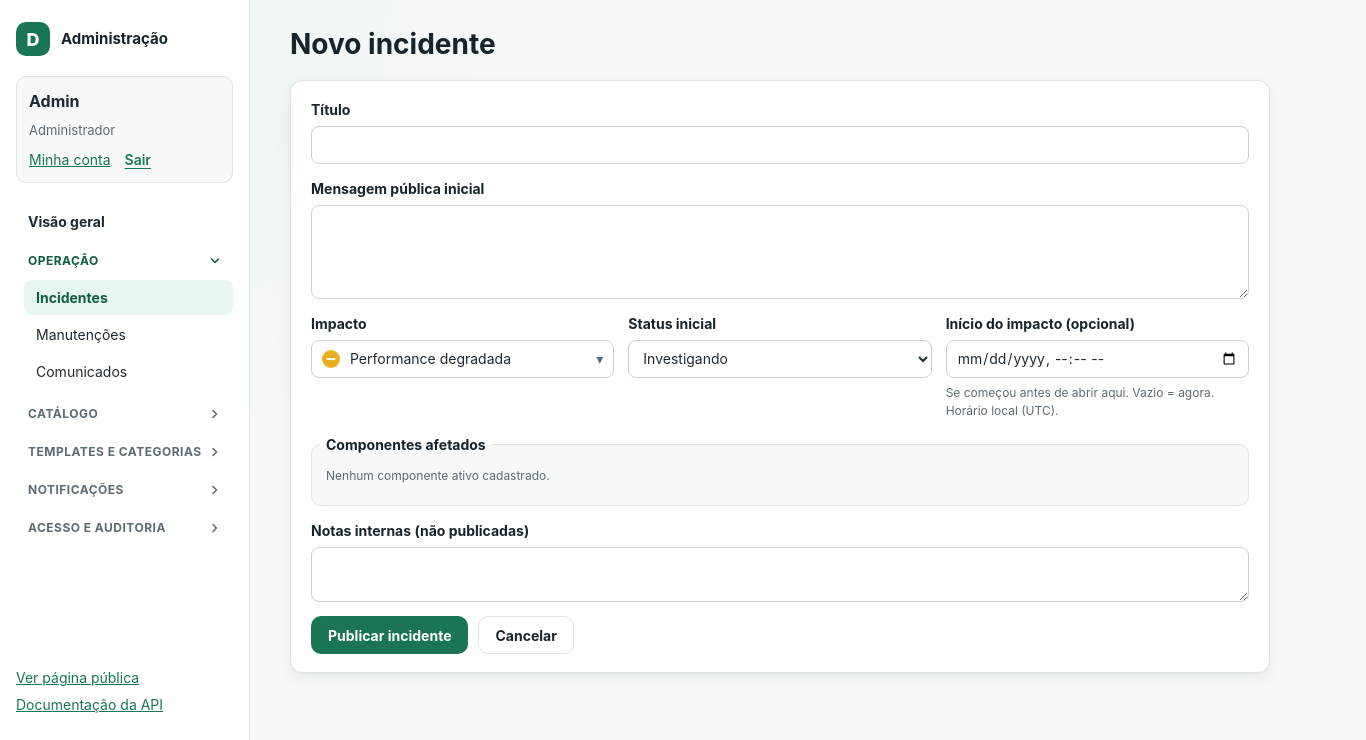
Test case: admin area › shows field errors returned by the API
Type "x" into the field labelled "Título" at [780, 145], box [311,126,1249,164]
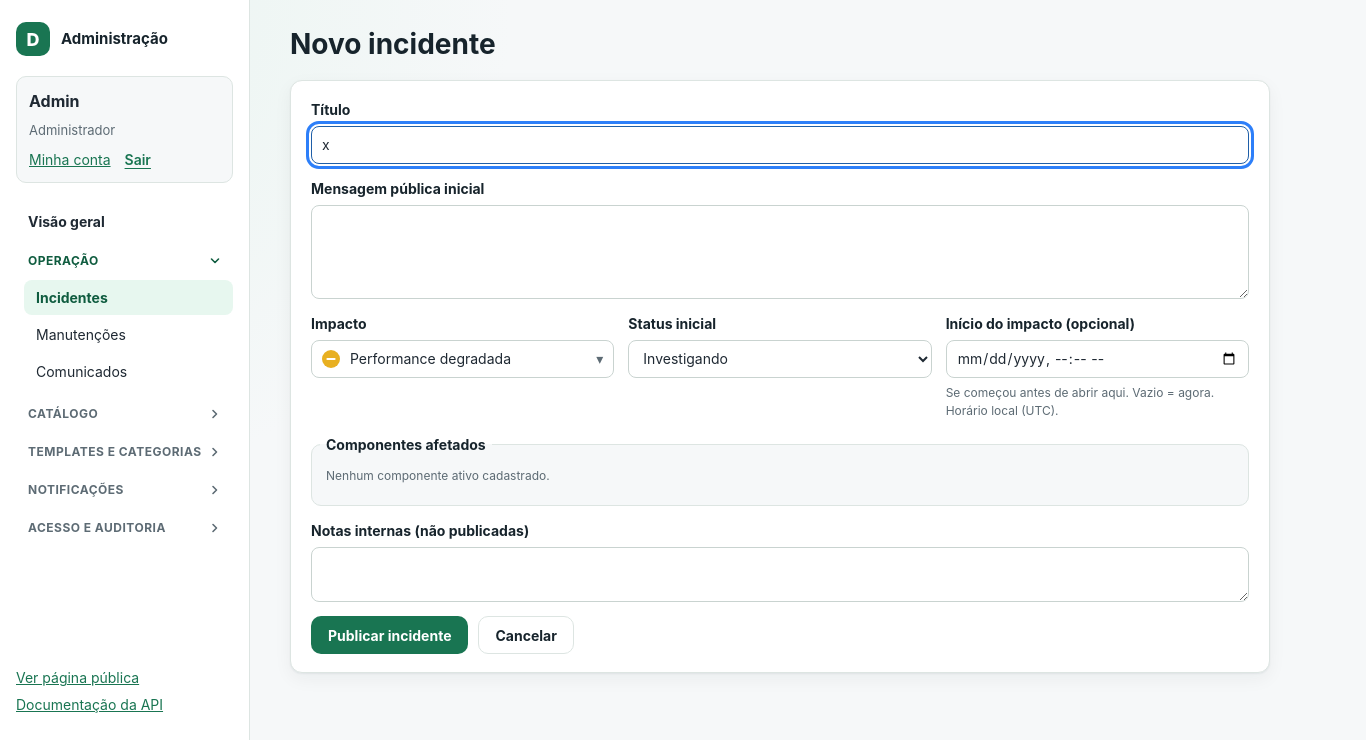
Type "y" into the text box labelled "Mensagem pública inicial" at [780, 252], box [311,205,1249,299]
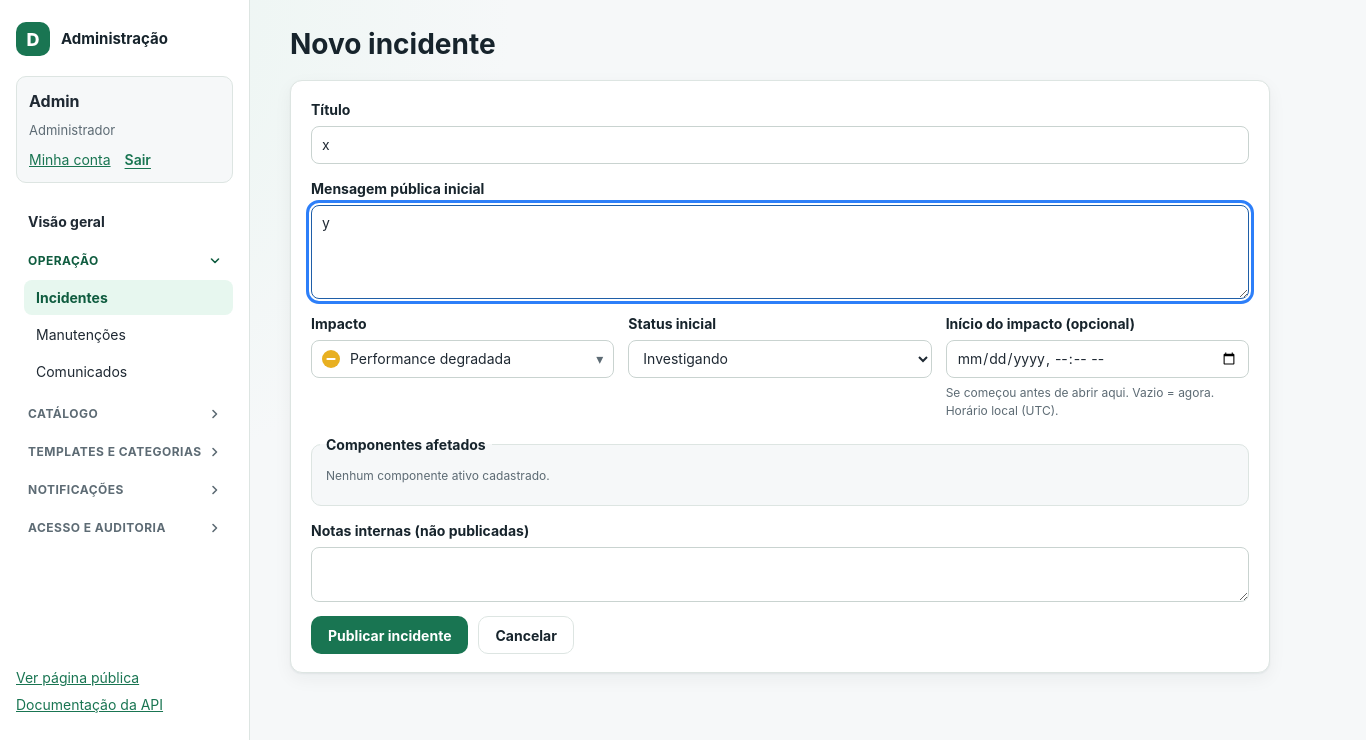
Click the button "Publicar incidente" at [390, 635], box [311,616,468,654]
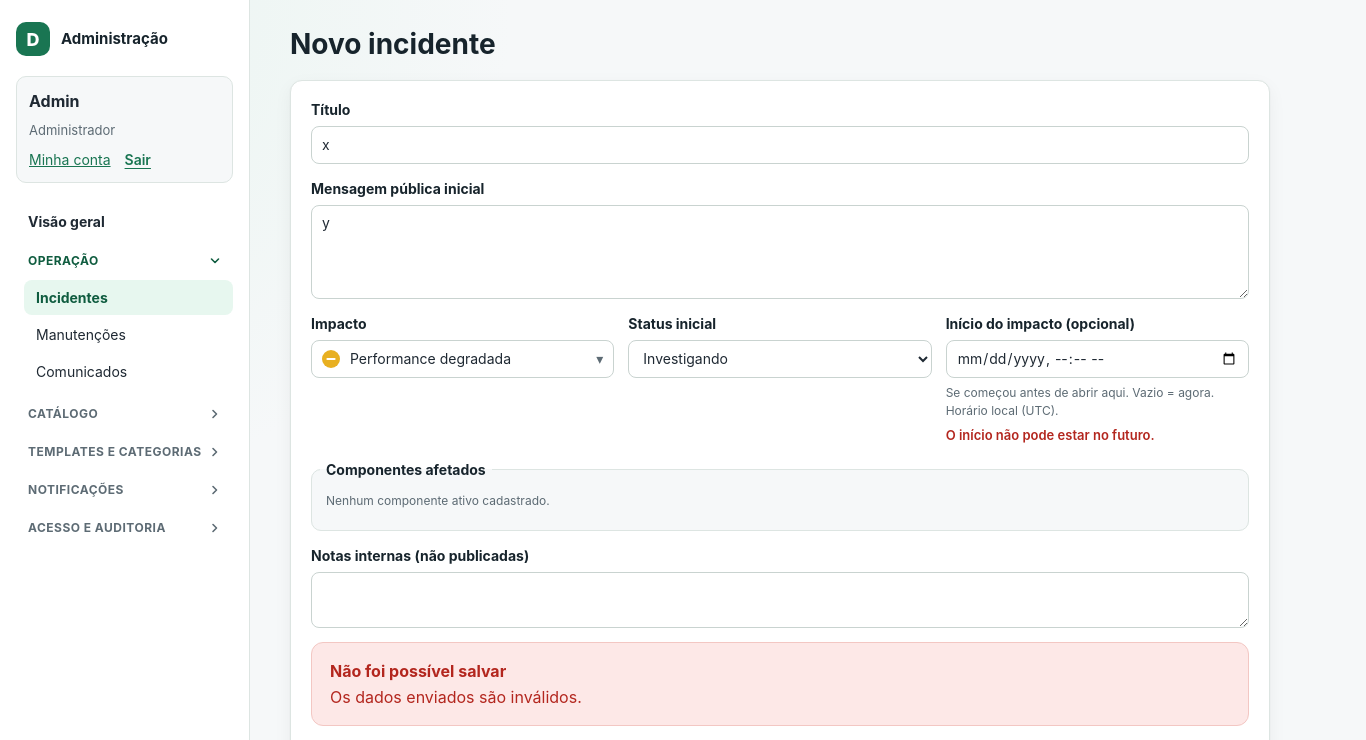
Check: the text "O início não pode estar no futuro." is shown, box [946,427,1155,443]
Check: the text "Os dados enviados são inválidos." is shown, box [330,685,582,709]
